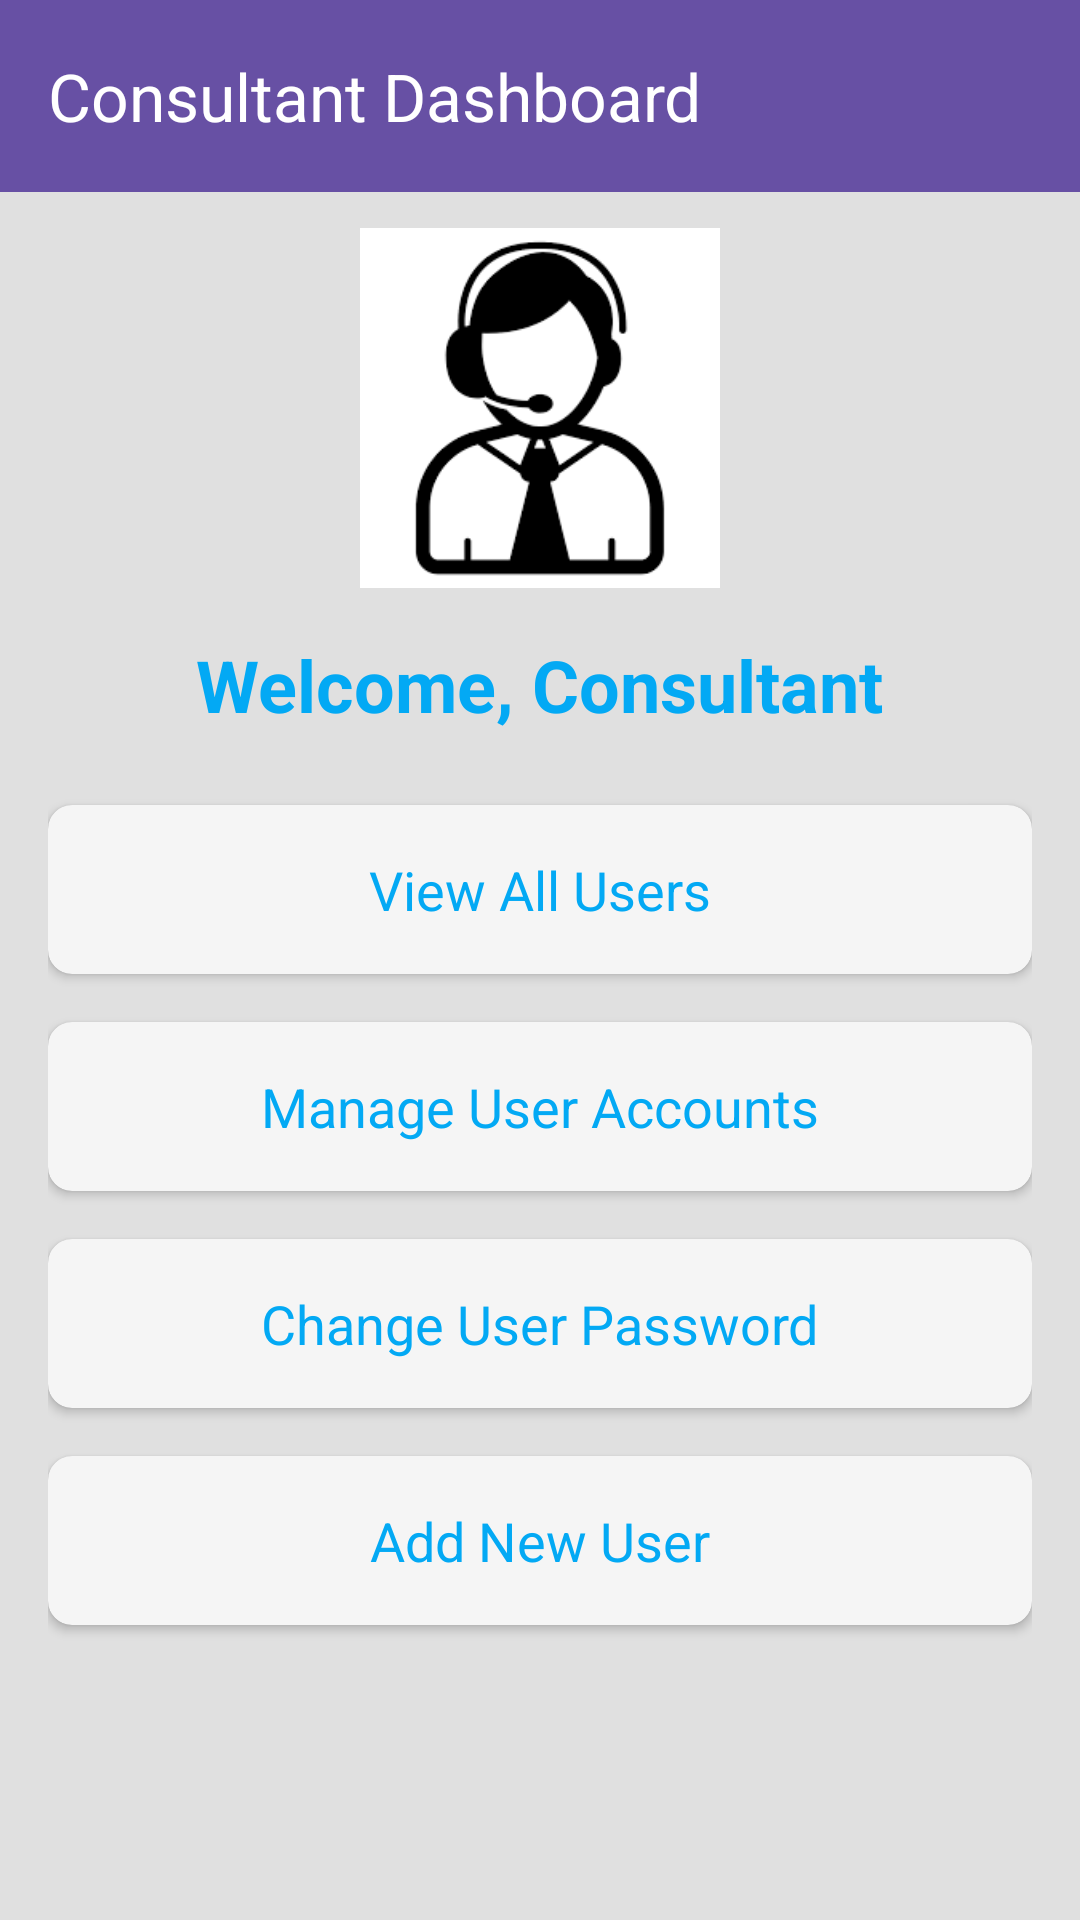

Named icons in this screenshot (1080 × 1920) and their bounding boxes, (x1, y1, x2, y2):
Consultant Profile Picture: (360, 228, 720, 588)
